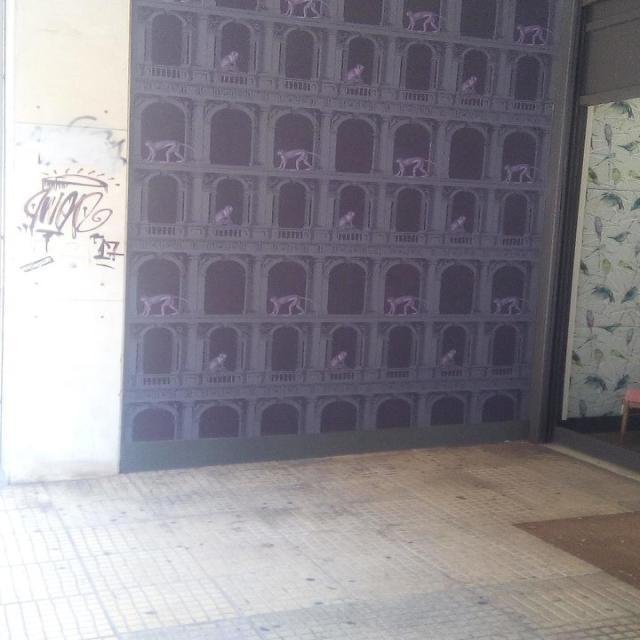nonspitting: (18, 168, 124, 269)
